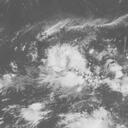cyclone: (37, 42, 93, 93)
